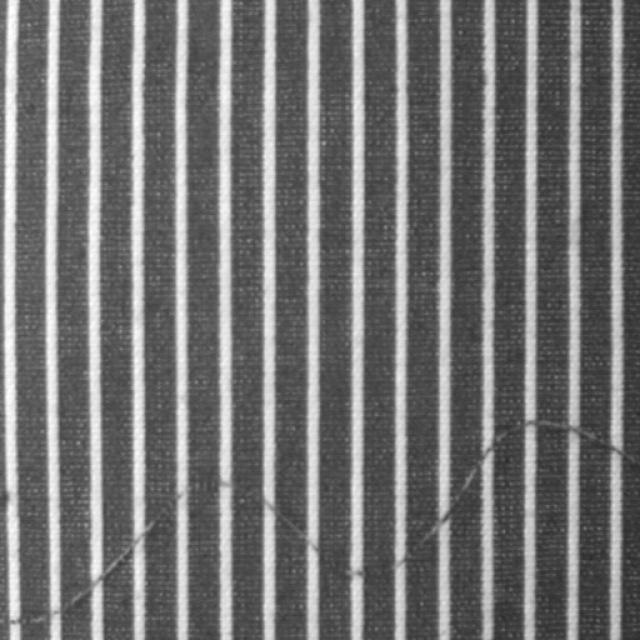Foreign-Body-Defect: (394, 419, 639, 571), (6, 510, 169, 639), (265, 499, 316, 556)
